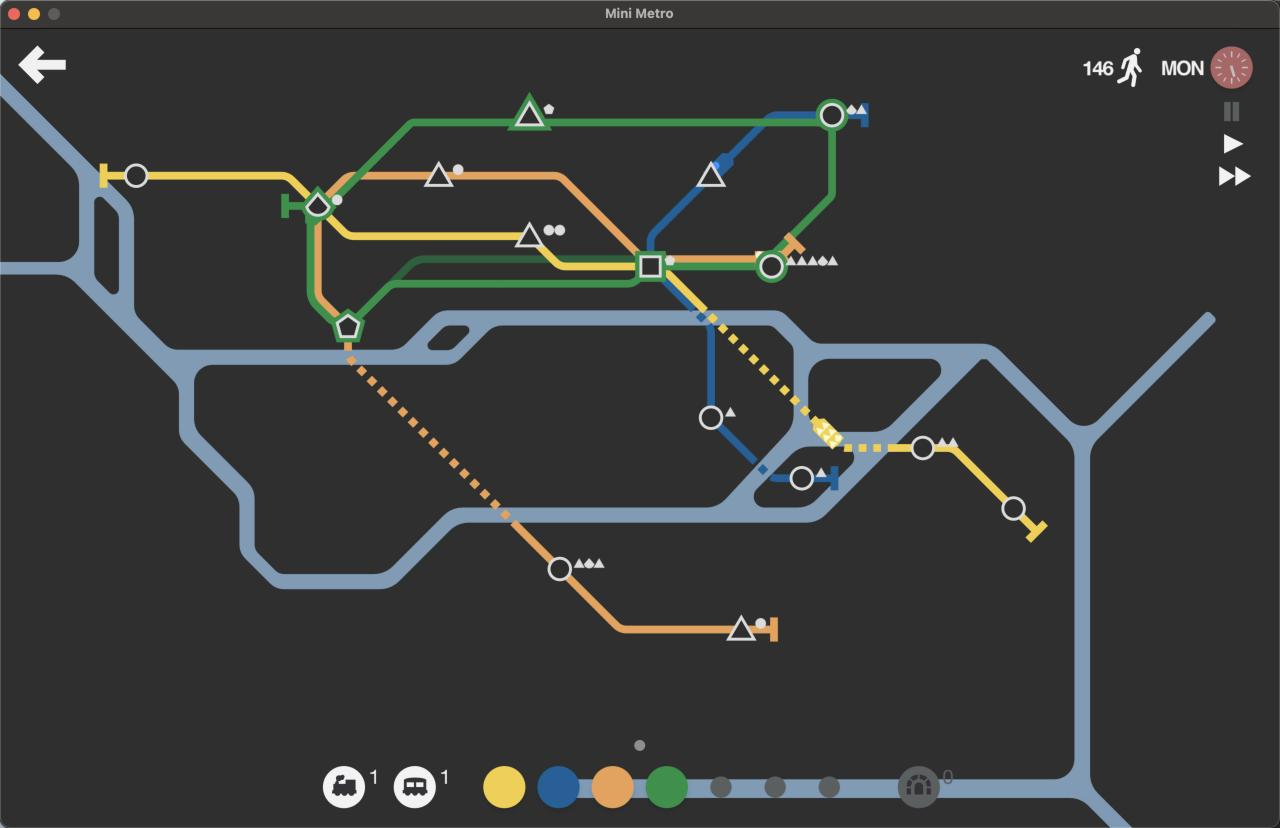CIRCLE: (755, 250, 788, 283), (816, 98, 848, 131), (698, 404, 724, 431), (546, 556, 573, 582), (1001, 495, 1027, 521), (789, 465, 815, 491), (124, 162, 149, 188), (911, 435, 936, 460)
PENTAGON: (333, 310, 364, 343)
SQUARE: (634, 250, 662, 279)
TRIANGLE: (510, 93, 551, 131), (696, 159, 727, 188), (424, 160, 455, 188), (514, 221, 544, 249)
TRIAngle: (726, 613, 758, 642)
WEDGE: (304, 187, 334, 220)
